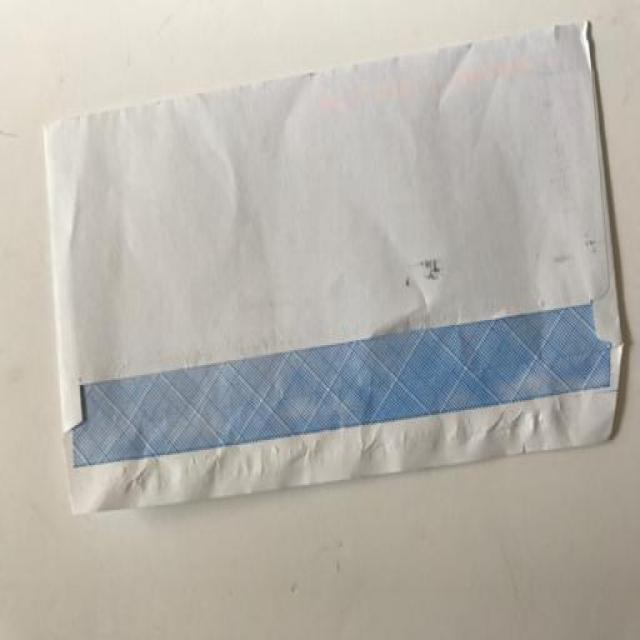paper: (34, 75, 630, 475)
